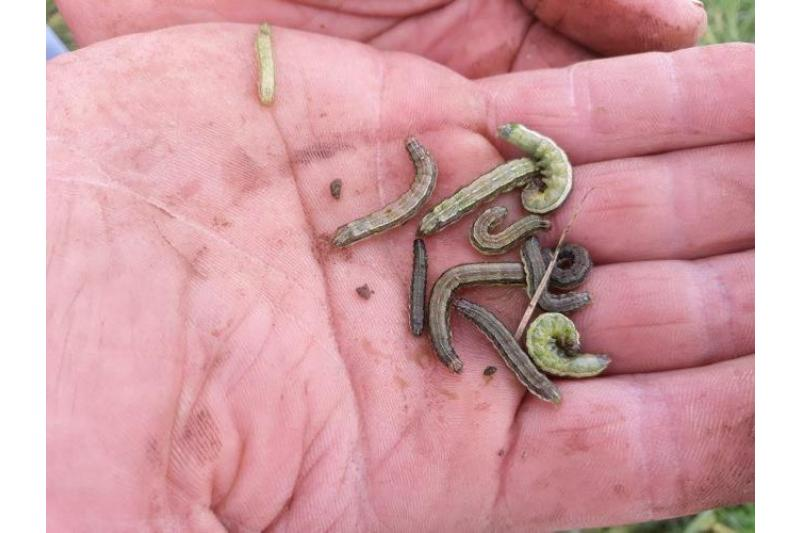fall-armyworm: (430, 264, 546, 374), (332, 139, 438, 249), (455, 302, 563, 405), (418, 160, 538, 243), (498, 125, 574, 215), (525, 313, 612, 382), (523, 240, 593, 316), (469, 207, 552, 257), (536, 244, 594, 292), (411, 240, 428, 338), (258, 23, 275, 104)
